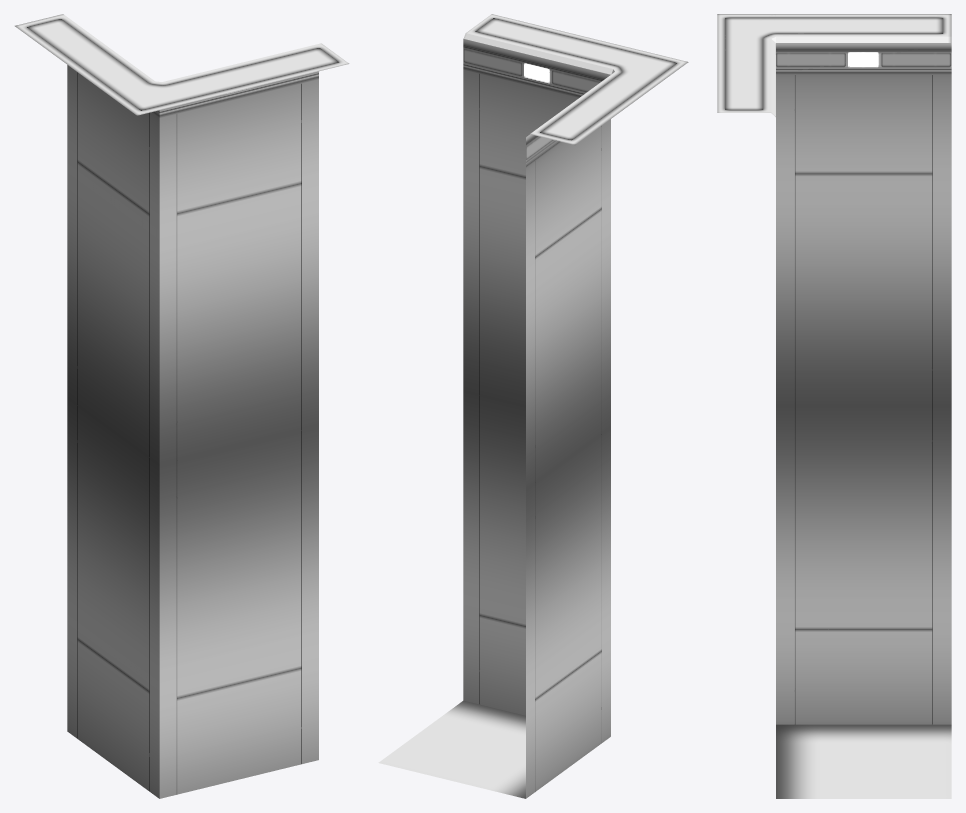
The model's file is Sect_Floor_19b.FBX.
3 renders of one model, left to right at view 1: azimuth 30°, elevation 25°; view 2: azimuth 150°, elevation 25°; view 3: azimuth 270°, elevation 25°, orthographic. The views are drawn at different scales.
Visible parts, largest first — view 1: Sect_Floor_BaseC_; view 2: Sect_Floor_BaseC_; view 3: Sect_Floor_BaseC_.
Part boxes in pixels (box(x1,y1,x2,y2)): Sect_Floor_BaseC_: box(15, 14, 349, 798); Sect_Floor_BaseC_: box(378, 14, 688, 798); Sect_Floor_BaseC_: box(717, 14, 951, 798).
Bounding box in the file's own units: 4 × 12.92 × 4.
